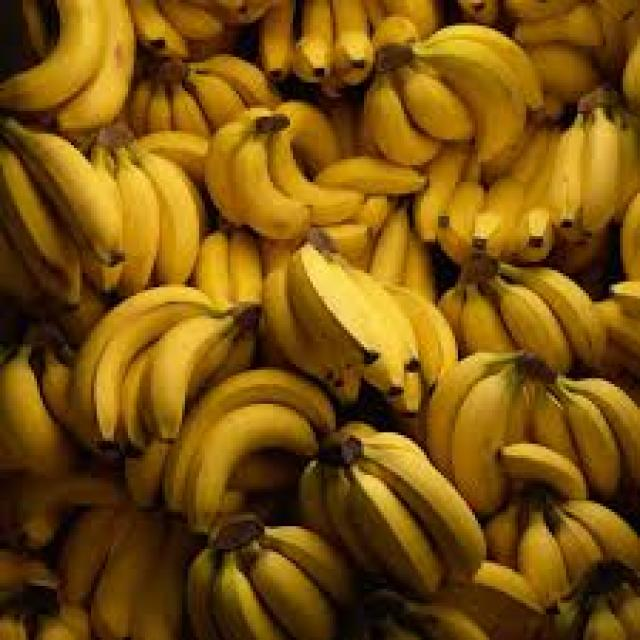Banana: (165, 368, 336, 511), (72, 291, 222, 441), (358, 438, 486, 578), (3, 119, 122, 263), (191, 404, 318, 529), (0, 0, 100, 111), (152, 315, 238, 439), (56, 0, 135, 132), (454, 364, 520, 514), (231, 134, 310, 238), (138, 151, 200, 283), (250, 550, 336, 640), (362, 74, 441, 166), (561, 385, 621, 499), (119, 148, 160, 294)
